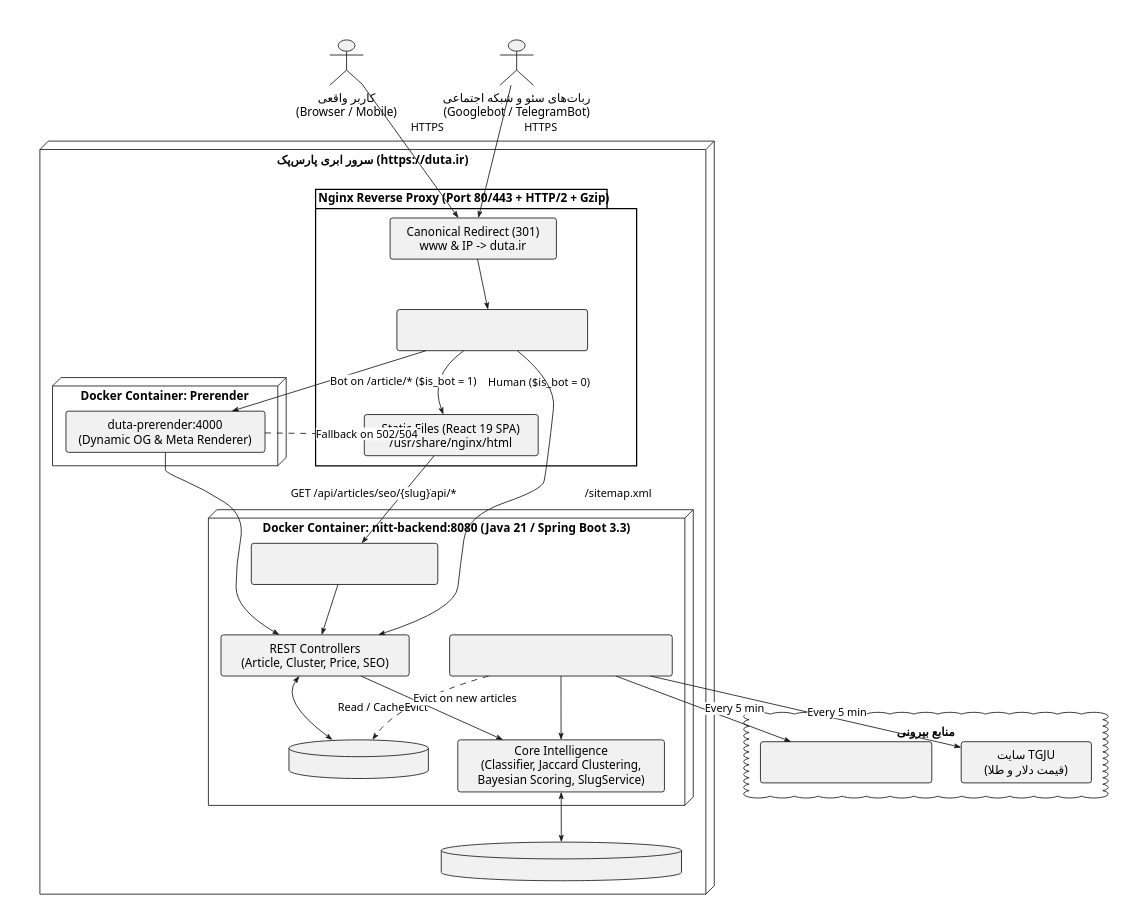
This 1123x909 diagram has some shape labels left out. Here are the shapes that lost their labels. From the top down, the centre of each, then its label:
(492,330): Bot Detector ($is_bot) & /robots.txt + /sitemap.xml
(344,563): RateLimitInterceptor (120 req/min via X-Real-IP)
(560,655): Background Schedulers (5 Async RSS Threads + Price Job)
(358,759): Caffeine Cache (In-Memory, 10m TTL)
(846,762): فیدهای RSS خبرگزاری‌ها
(560,861): PostgreSQL Database (articles, clusters, sources, categories)
